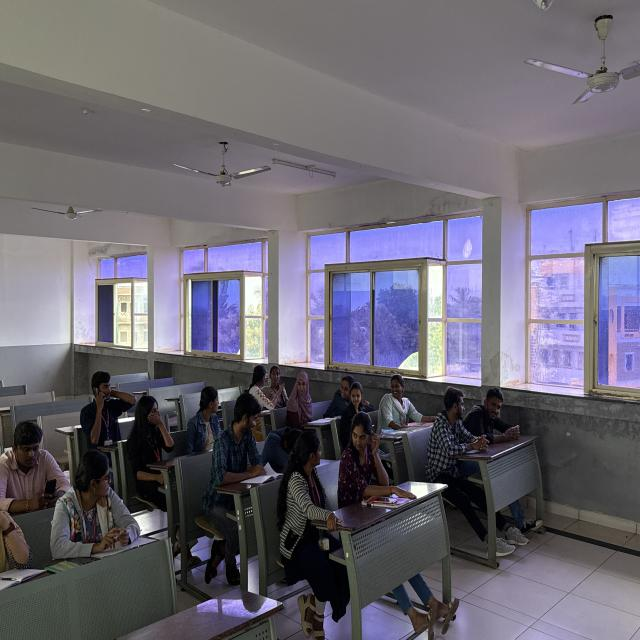Using Phone: (0, 418, 70, 514), (75, 353, 135, 447), (474, 383, 531, 464)
Writing: (52, 450, 142, 562)
